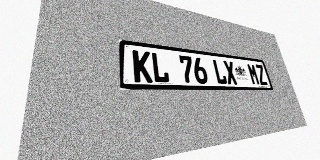6: (192, 57, 209, 84)
7: (178, 55, 196, 84)
K: (132, 50, 153, 83)
L: (151, 52, 170, 83), (212, 59, 228, 84)
M: (246, 63, 260, 85)
X: (223, 60, 238, 85)
Z: (255, 64, 268, 85)
